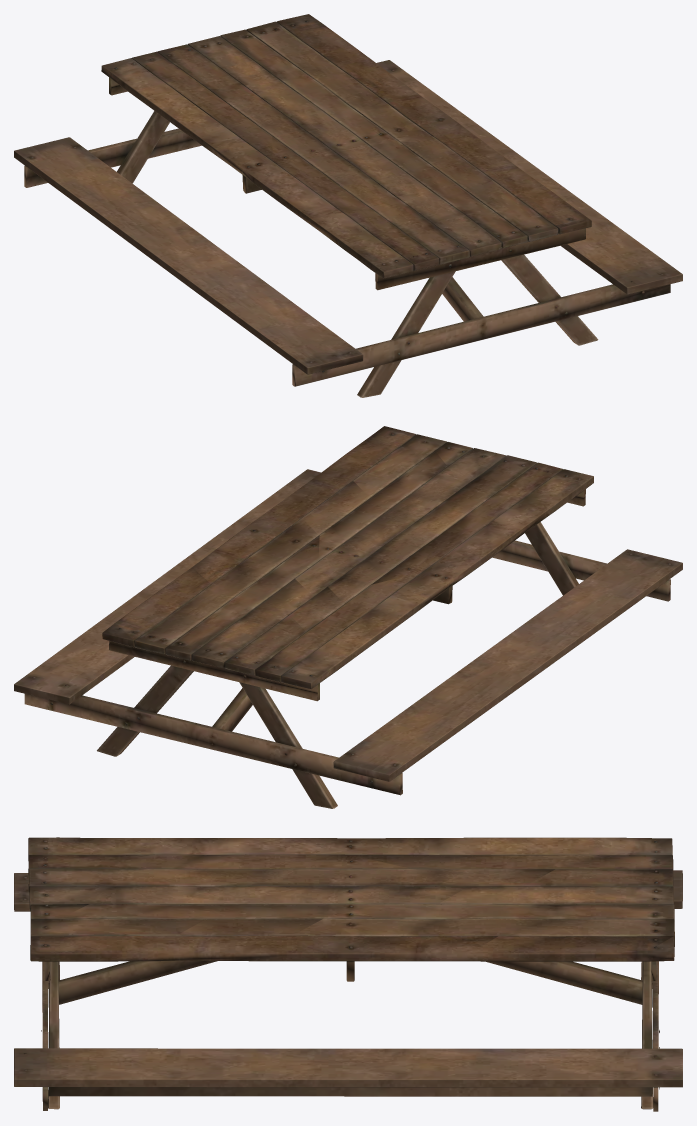
Rendered from wooden_picnic_table.glb.
The picture shows the model from 3 angles, top to bottom: view 1: azimuth 30°, elevation 25°; view 2: azimuth 150°, elevation 25°; view 3: azimuth 270°, elevation 25°; orthographic projection. The views are drawn at different scales.
Visible parts, largest first — view 1: wooden_picnic_table; view 2: wooden_picnic_table; view 3: wooden_picnic_table.
Boxes of the visible parts, left/top/right/bottom form: wooden_picnic_table: left=14, top=14, right=682, bottom=397; wooden_picnic_table: left=14, top=426, right=682, bottom=808; wooden_picnic_table: left=14, top=837, right=682, bottom=1111.
Bounding box in the file's own units: 2.24 × 0.746 × 3.02.
Materials: 2 (2 with a texture image).
